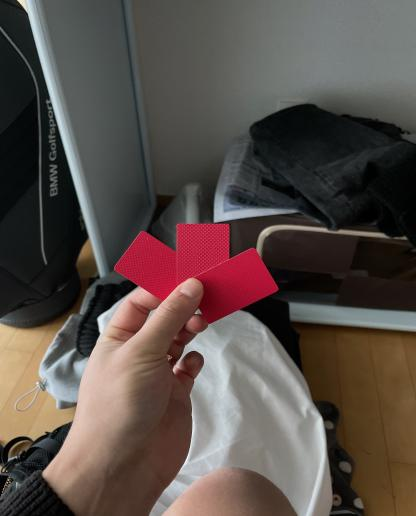ThreeHwatoo: (94, 183, 290, 346)
